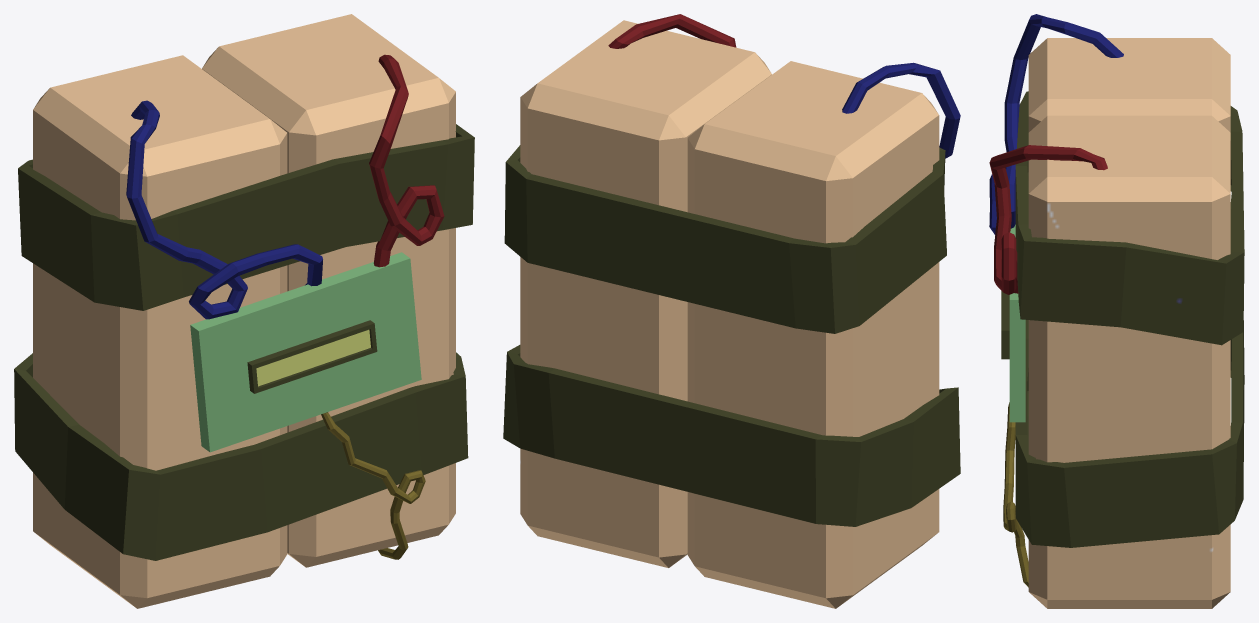
The model's file is C4Bomb.fbx.
3 views of the same model, side by side, from view 1: azimuth 30°, elevation 25°; view 2: azimuth 150°, elevation 25°; view 3: azimuth 270°, elevation 25° (orthographic). The views are drawn at different scales.
Visible parts, largest first — view 1: Cube; view 2: Cube; view 3: Cube.
Part boxes in pixels (x1,y1,x2,y2): Cube: (14,14,474,608); Cube: (503,14,960,608); Cube: (989,14,1244,608).
Size of the model in its own units: 33.84 by 44.33 by 21.59.
